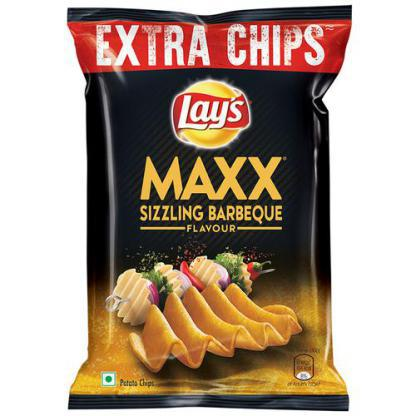maxx_sizzling_barbeque: (67, 7, 341, 405)
